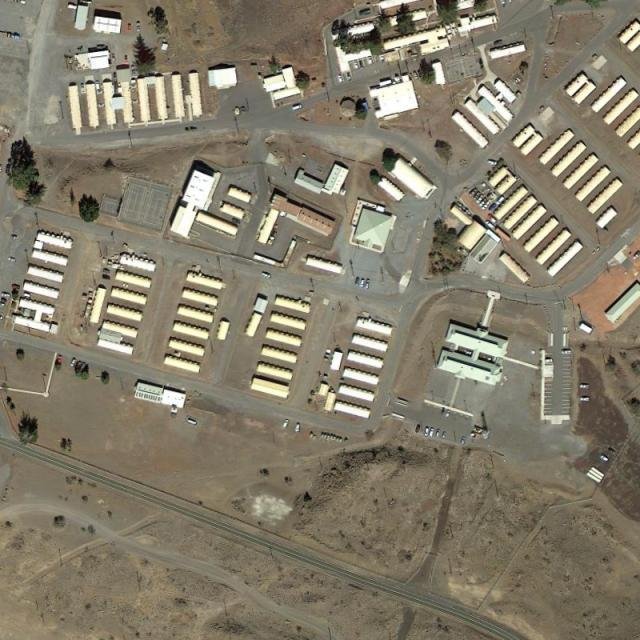vehicle: (487, 214, 498, 226), (475, 193, 486, 205), (478, 197, 489, 209), (482, 200, 493, 212), (487, 202, 498, 213), (496, 194, 506, 206), (360, 8, 373, 17), (323, 348, 331, 362), (261, 271, 273, 280), (469, 186, 478, 198), (491, 206, 501, 216), (231, 217, 242, 226), (632, 250, 640, 262), (486, 221, 496, 230), (473, 191, 482, 201), (295, 422, 302, 434), (359, 277, 366, 289), (70, 357, 78, 367), (600, 455, 610, 463), (346, 72, 354, 82), (95, 80, 102, 91), (493, 39, 504, 46), (355, 276, 362, 287), (424, 426, 430, 438), (282, 419, 290, 428), (2, 291, 11, 299), (80, 83, 86, 95), (607, 448, 616, 456), (378, 55, 386, 64), (415, 424, 422, 434), (106, 259, 113, 269), (413, 70, 420, 80), (337, 74, 344, 84), (292, 105, 303, 111), (365, 279, 371, 290), (12, 283, 21, 290), (234, 106, 241, 115), (368, 57, 375, 66), (353, 61, 360, 70), (430, 426, 435, 438), (102, 274, 112, 280), (488, 160, 498, 166), (8, 256, 16, 263), (417, 70, 424, 78), (113, 72, 118, 83), (435, 429, 441, 438), (460, 437, 466, 446), (581, 384, 590, 390), (137, 22, 142, 32), (562, 350, 572, 355), (580, 397, 590, 402), (12, 234, 19, 241), (441, 431, 447, 439), (58, 355, 63, 364), (132, 66, 137, 74), (446, 410, 451, 418), (1, 301, 7, 307), (128, 25, 133, 32), (502, 1, 507, 8), (125, 54, 129, 62), (1, 298, 9, 302), (546, 358, 554, 362), (1, 164, 4, 174), (1, 315, 5, 322), (508, 1, 513, 5)
